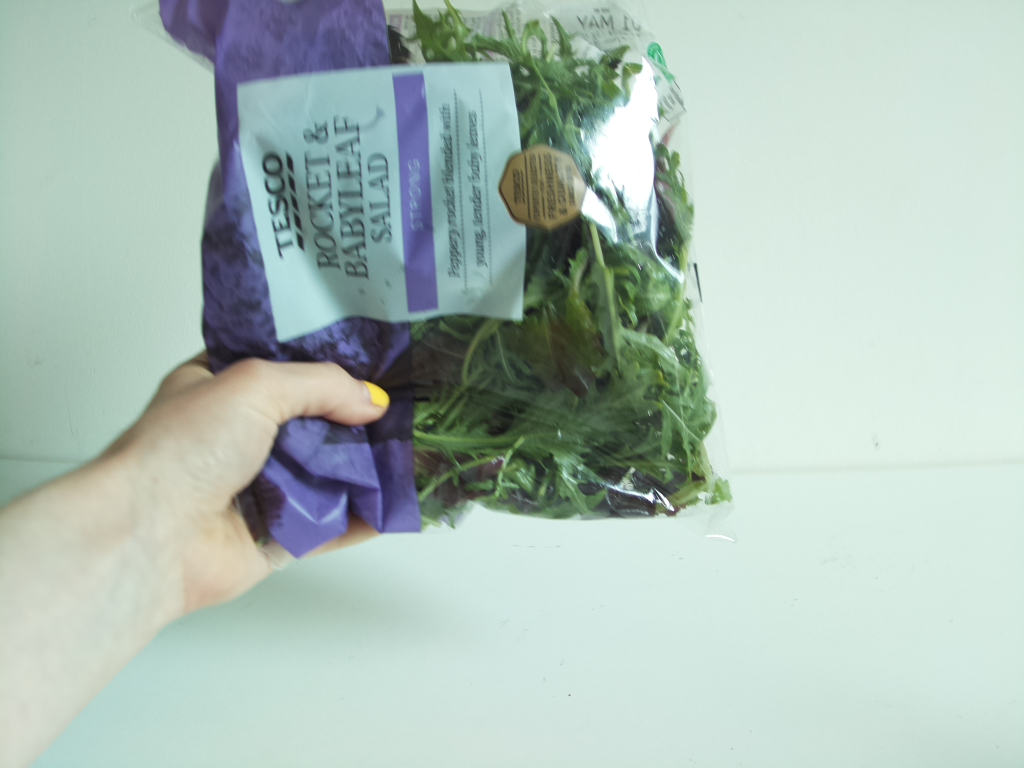salad: (212, 1, 710, 547)
